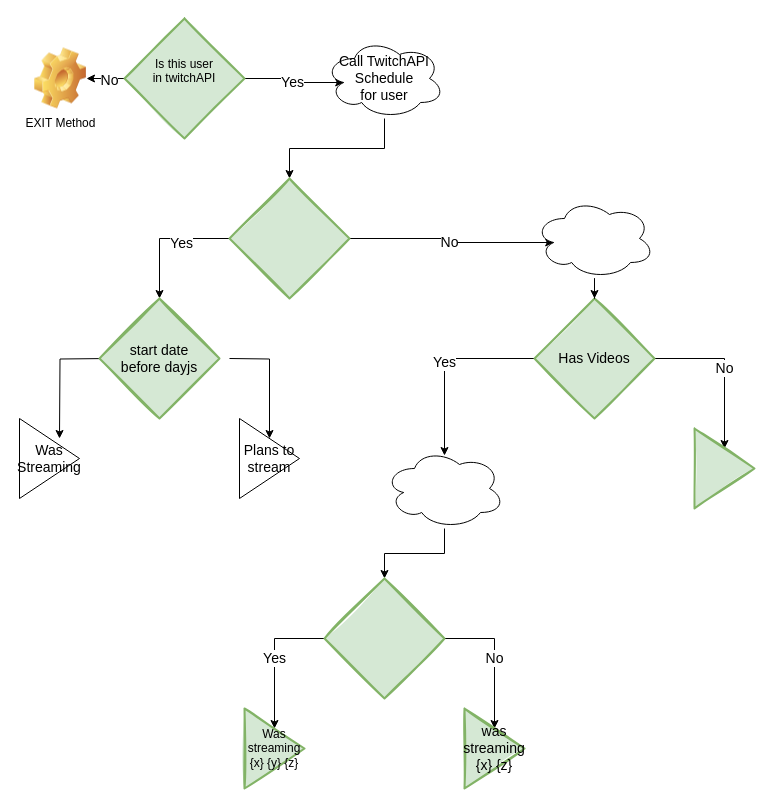
This 772x806 diagram has some shape labels left out. The centre of each missing label's shape, as x and y in pixels:
Check out user: point 724,468
Get User Video list: point 594,238
Get User's Channel Info: point 444,488
Is there a schedule that has items: point 289,238
was video <10 days ago: point 384,638
